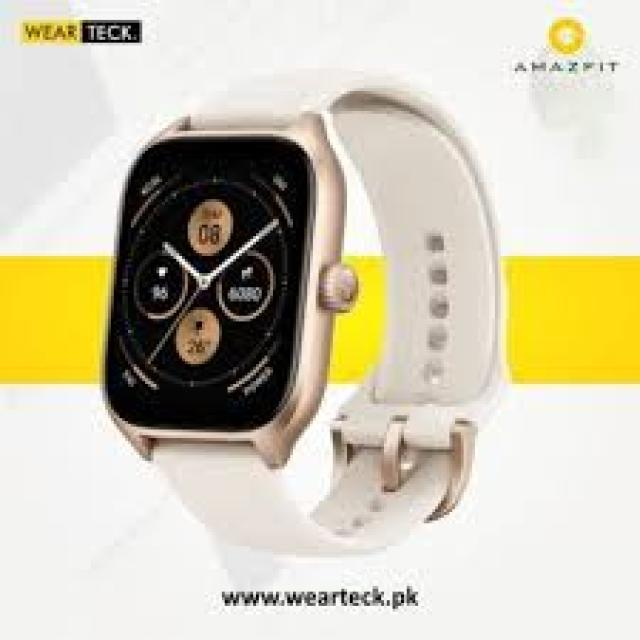objects: (100, 67, 503, 559)
